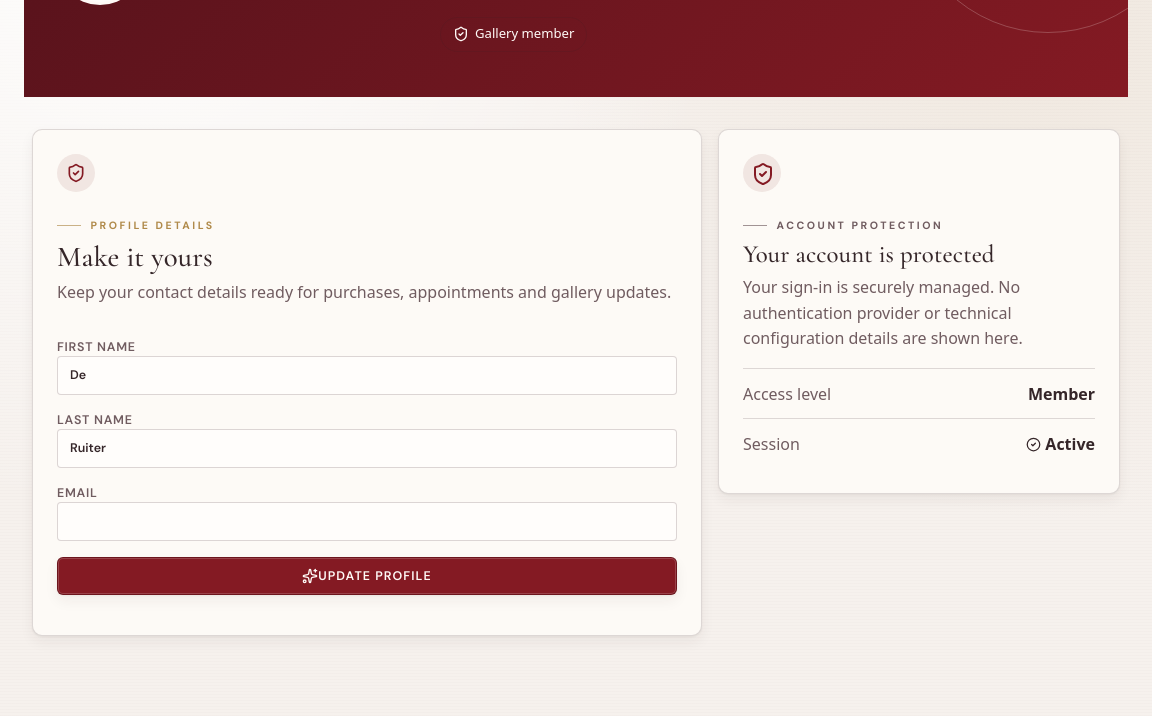
Test: Profile page › surfaces the reason when the API rejects the update
(page scrolled)
Type "dirk@galerie.test" into the field labelled "Email" at (367, 521), box [57,502,677,541]
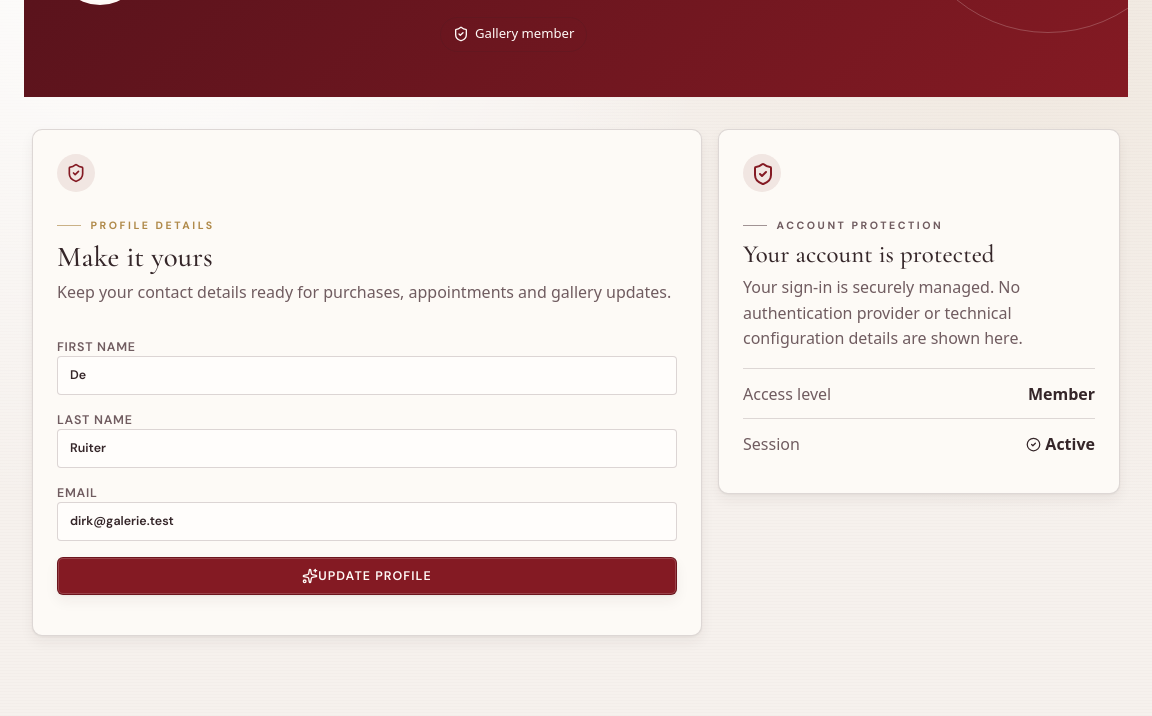
Click the button "Update profile" at (367, 576), box [57,557,677,595]
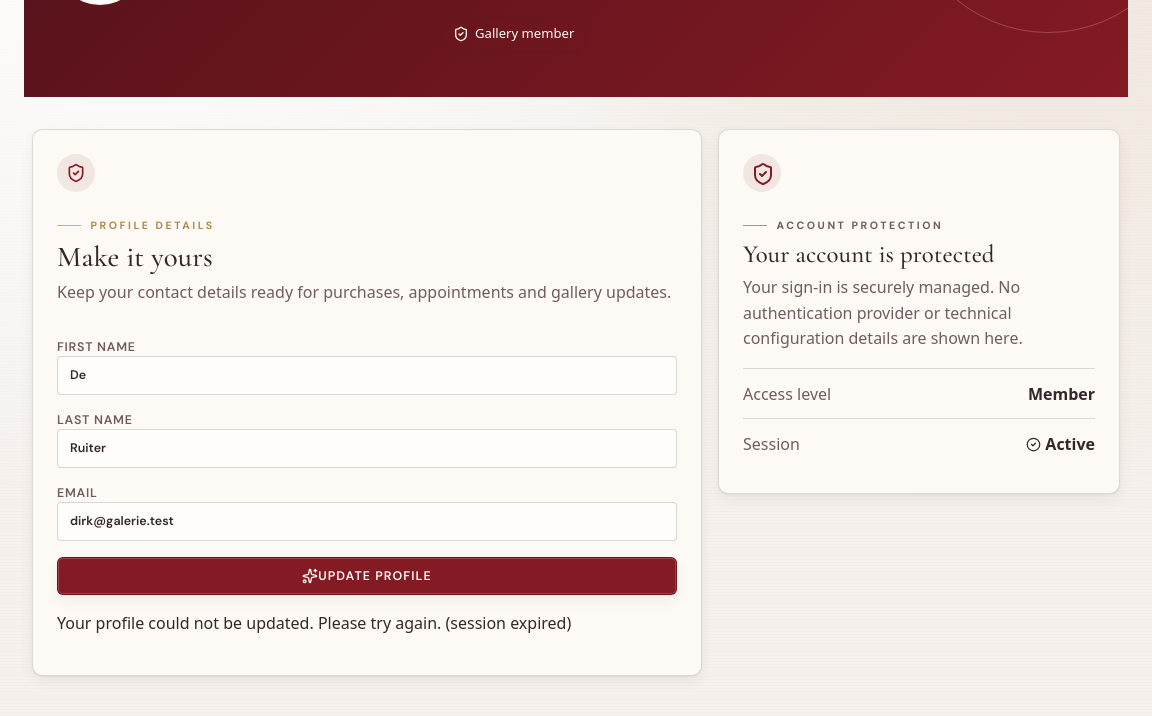
Expected: the message shows "Your profile could not be updated. Please try again.", [57,612,571,634]
Expected: the message shows "session expired", [57,612,571,634]
